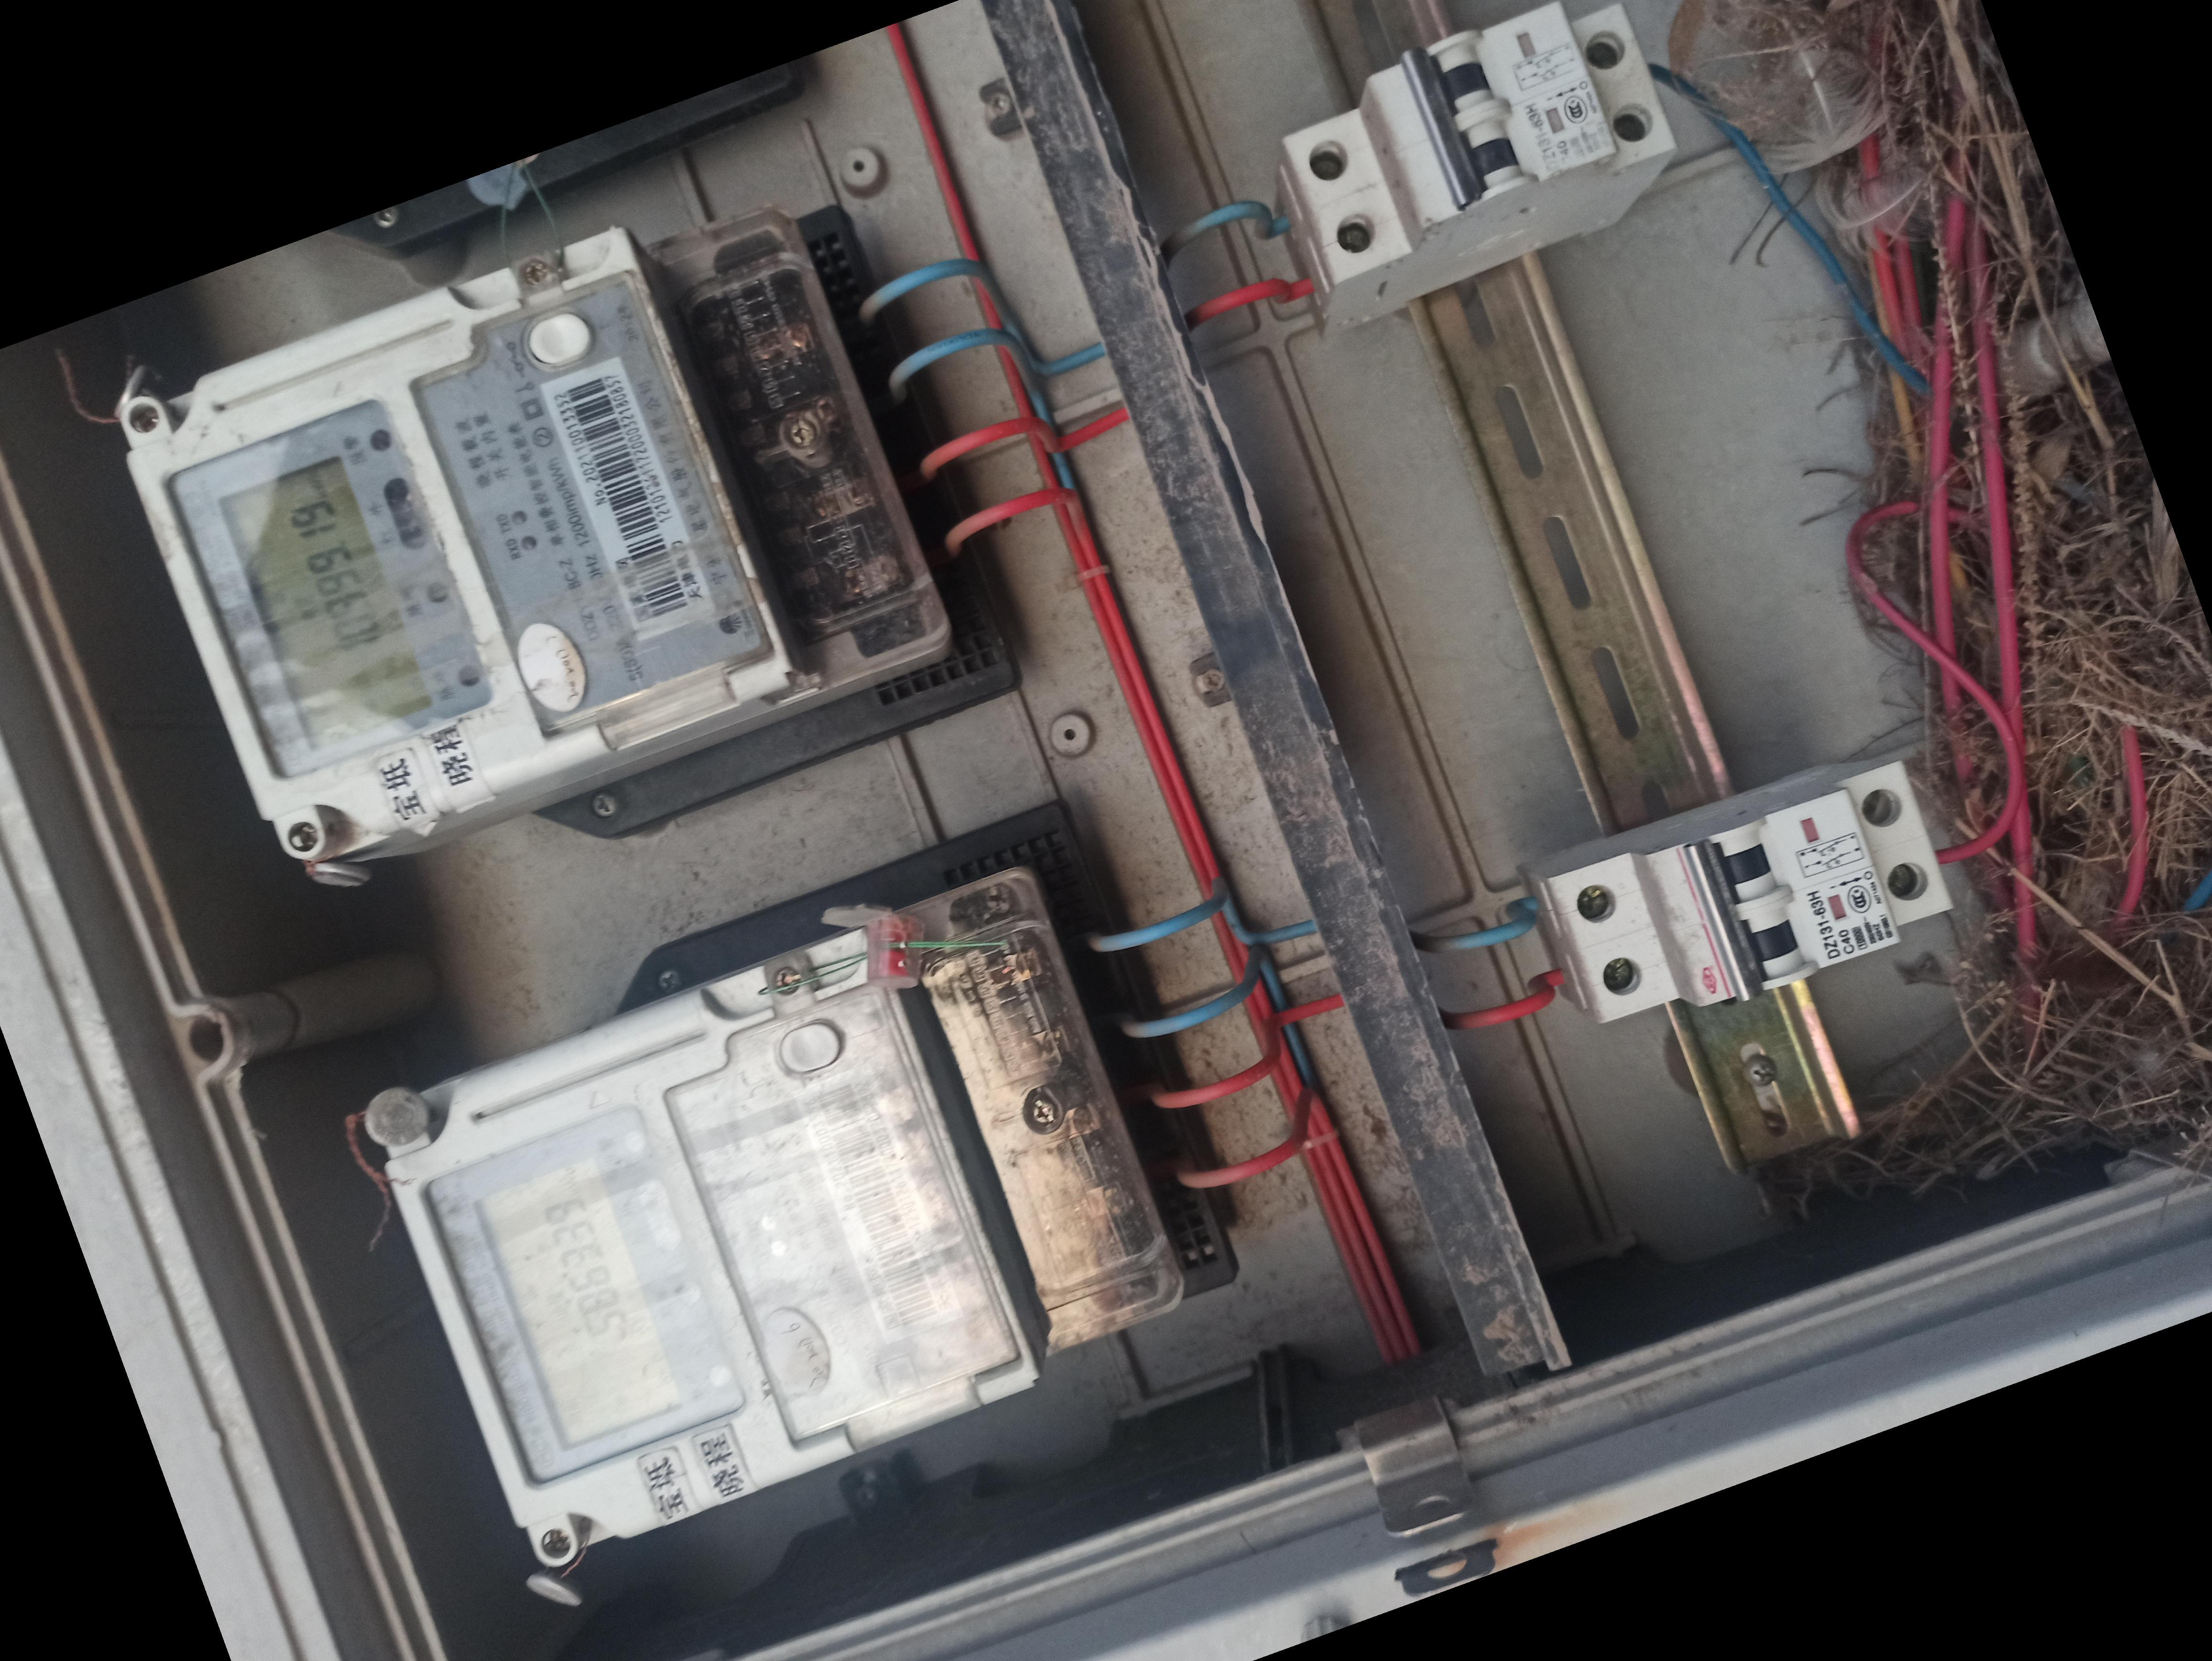digital: (126, 225, 776, 857), (393, 923, 1026, 1551)
